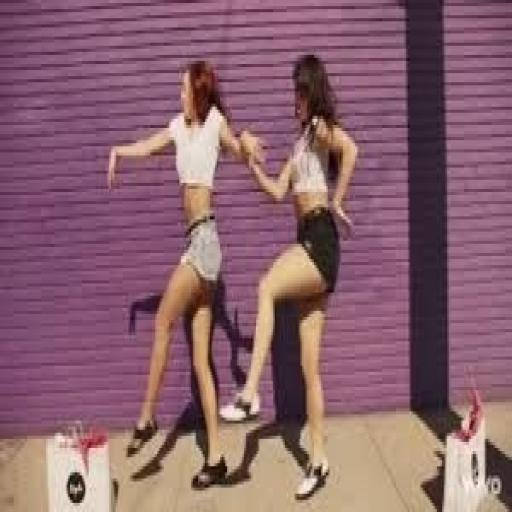dancing: (106, 55, 266, 494)
